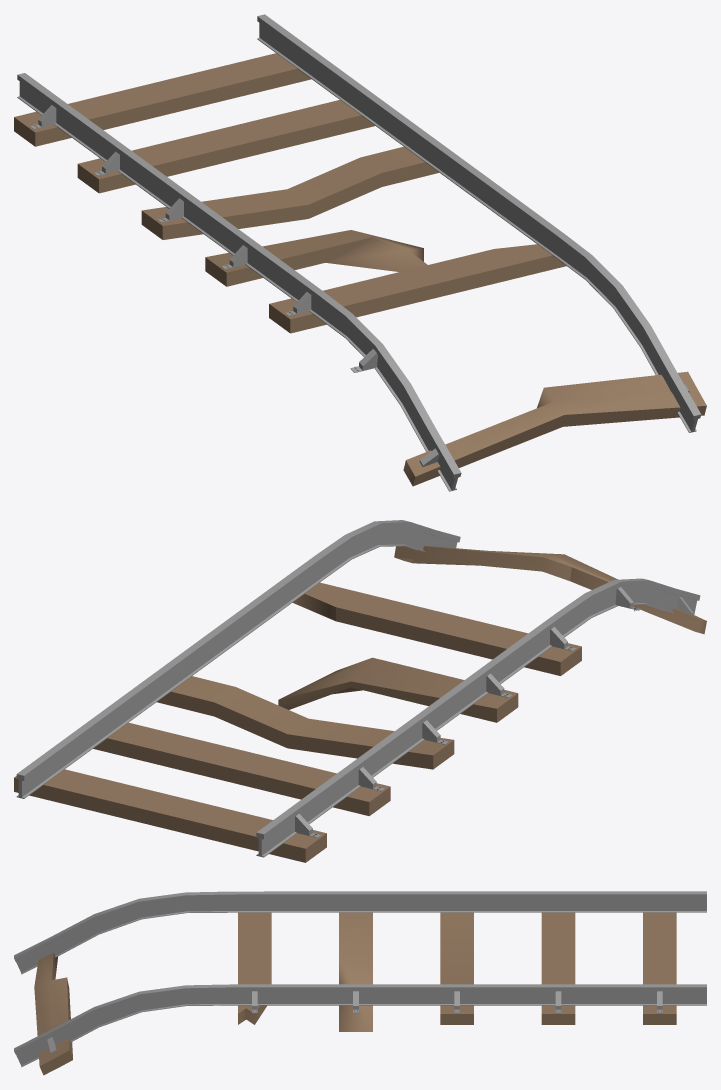
File: Trilho reto quebrado.fbx
3 views of the same model, one above another, from view 1: azimuth 30°, elevation 25°; view 2: azimuth 150°, elevation 25°; view 3: azimuth 270°, elevation 25° (orthographic). The views are drawn at different scales.
Visible parts, largest first — view 1: Cube.010; view 2: Cube.010; view 3: Cube.010.
Boxes of the visible parts, left/top/right/bottom form: Cube.010: left=14, top=14, right=706, bottom=491; Cube.010: left=14, top=520, right=706, bottom=862; Cube.010: left=14, top=891, right=706, bottom=1075.
Bounding box in the file's own units: 232 × 76.76 × 602.
